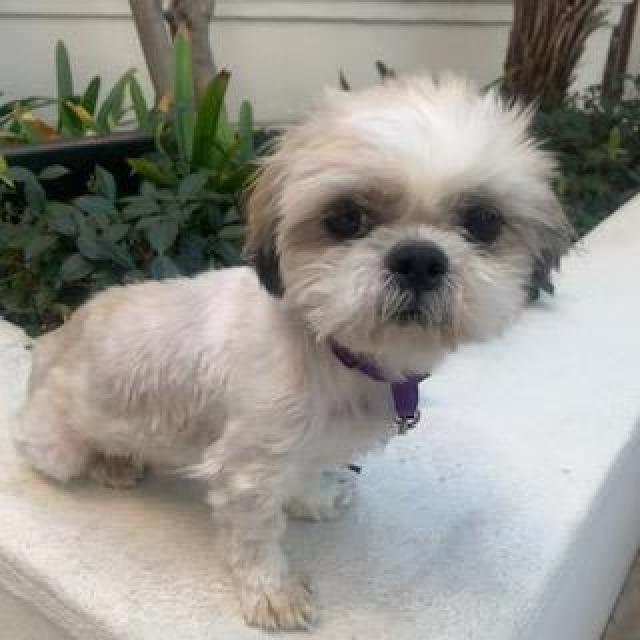shih_tzu_dog: (227, 58, 587, 390)
